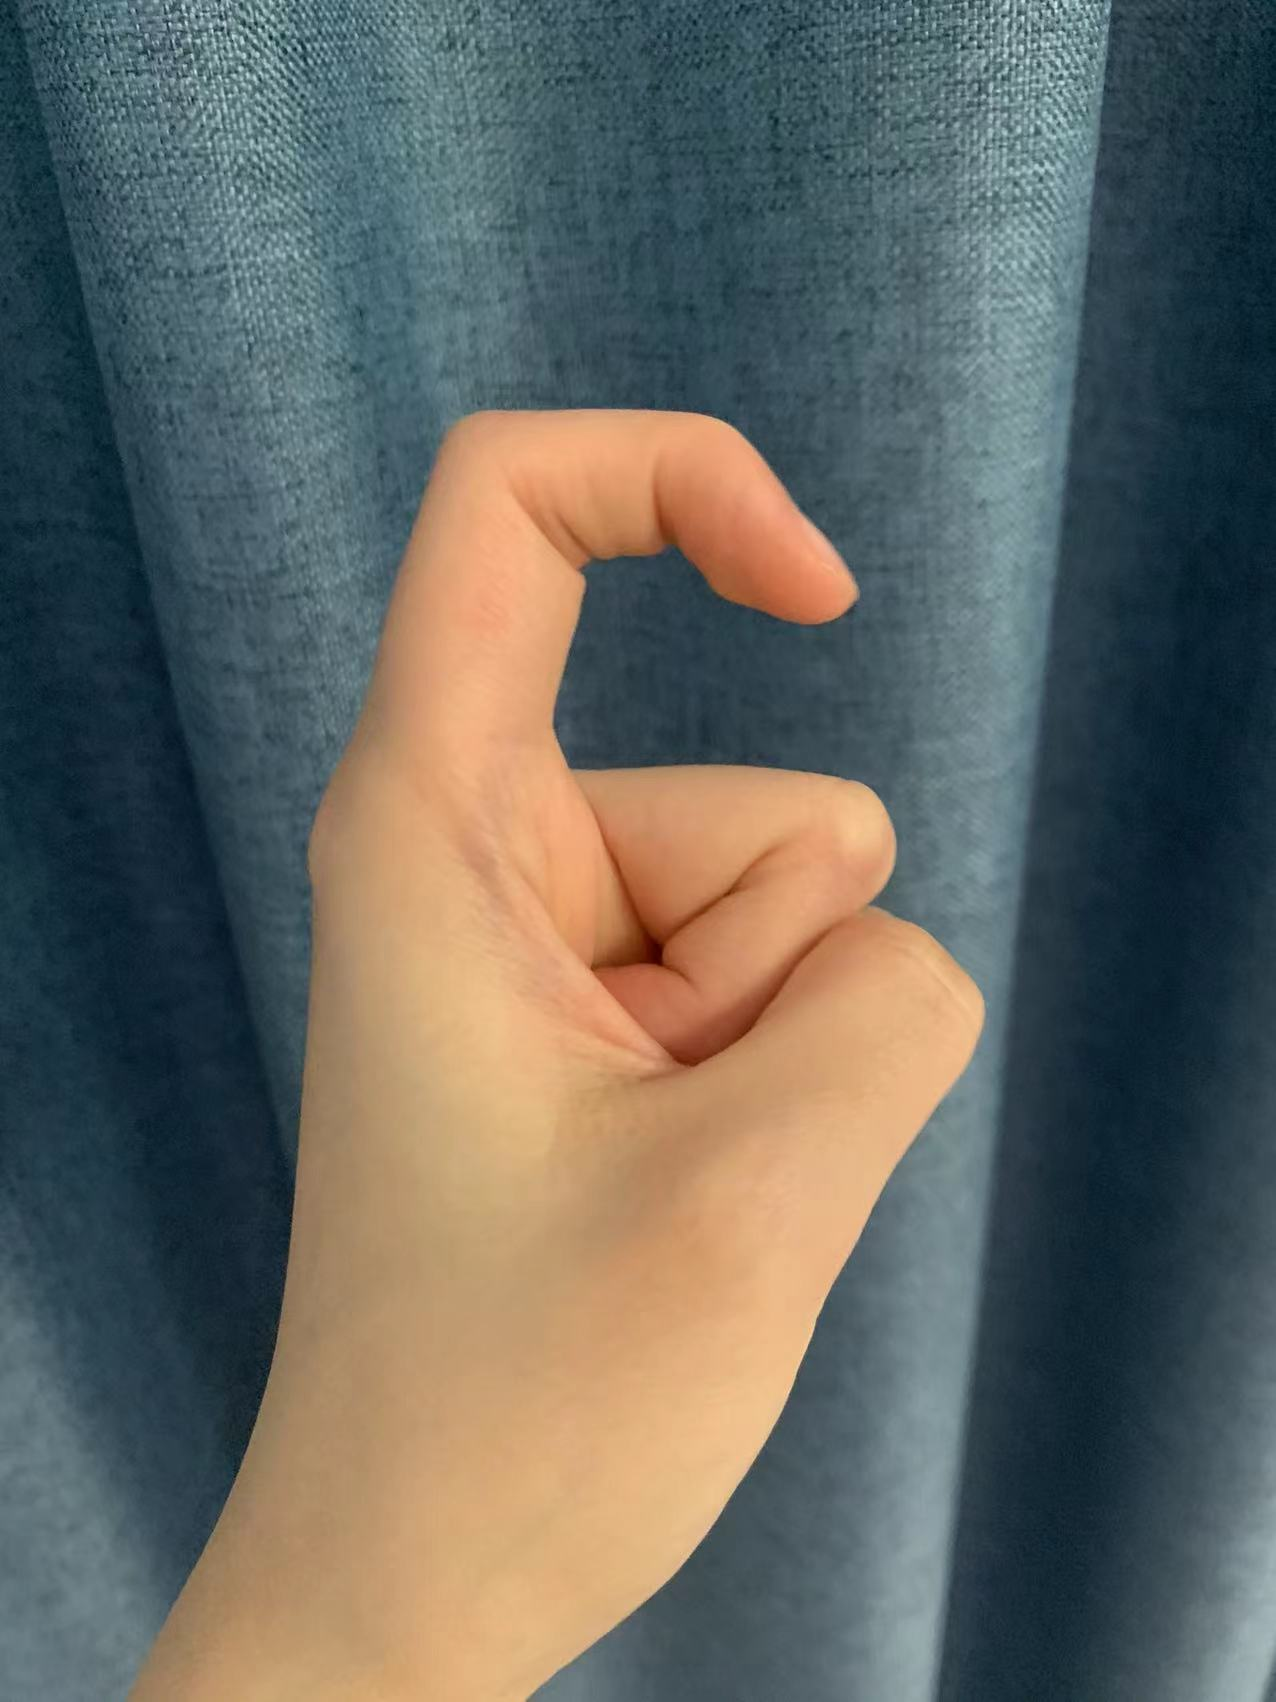anticlockwise: (198, 391, 1007, 1556)
